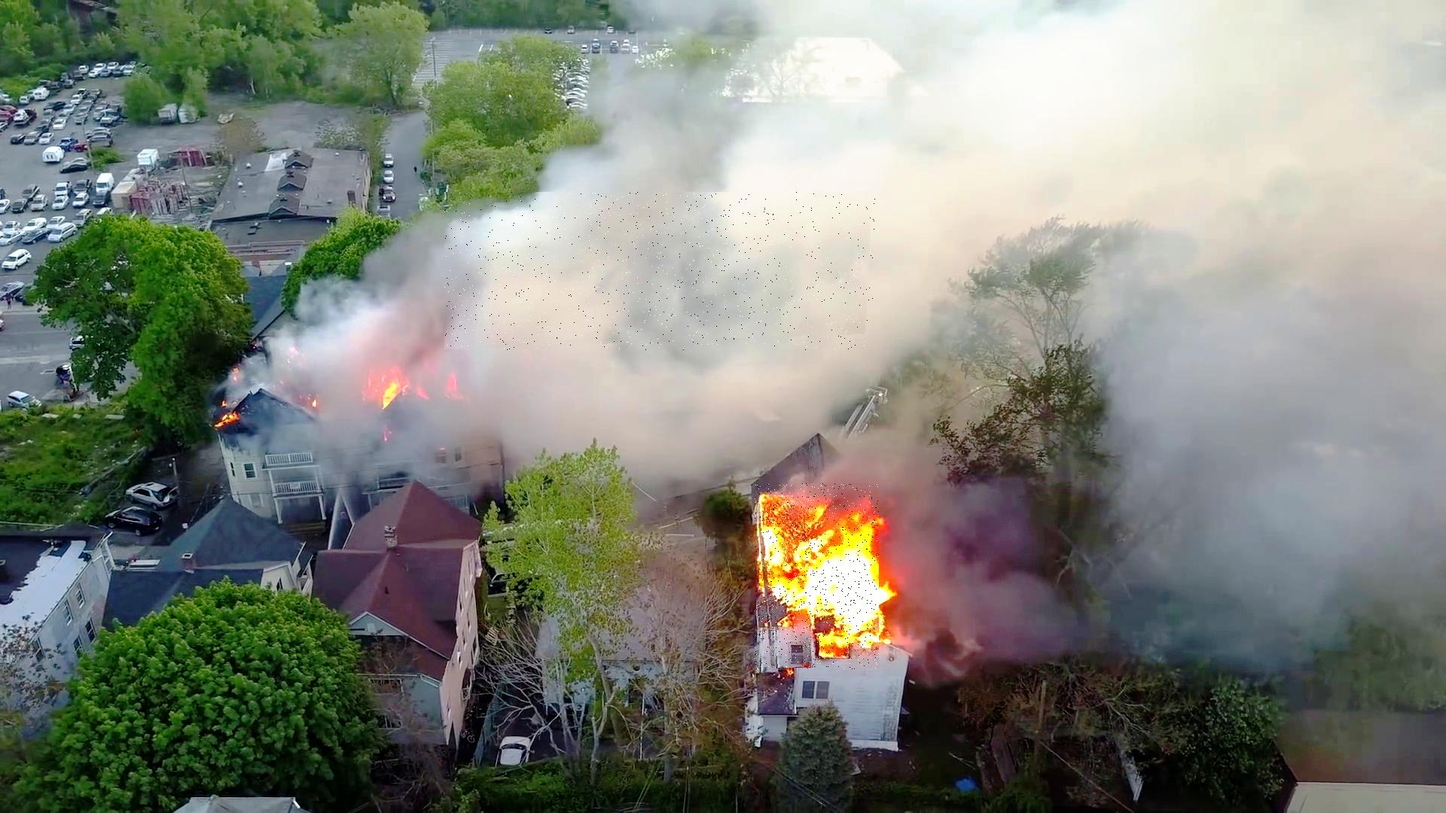fire: (755, 484, 879, 670)
smoke: (445, 192, 876, 350)
